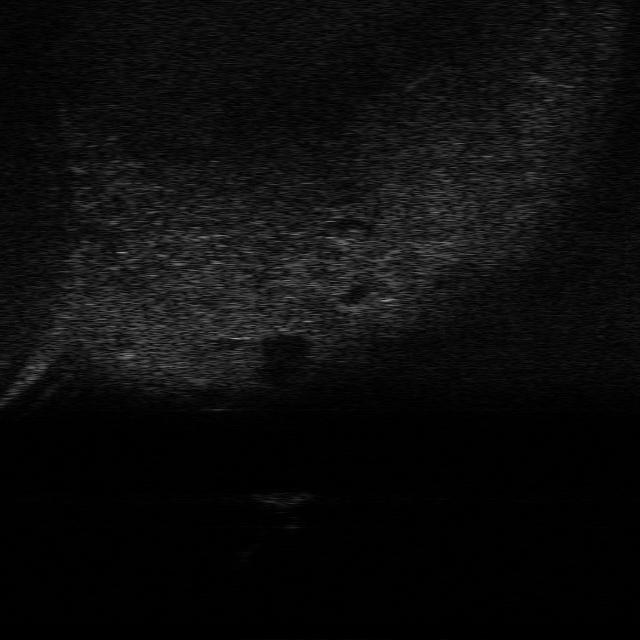cube: (254, 487, 315, 509)
